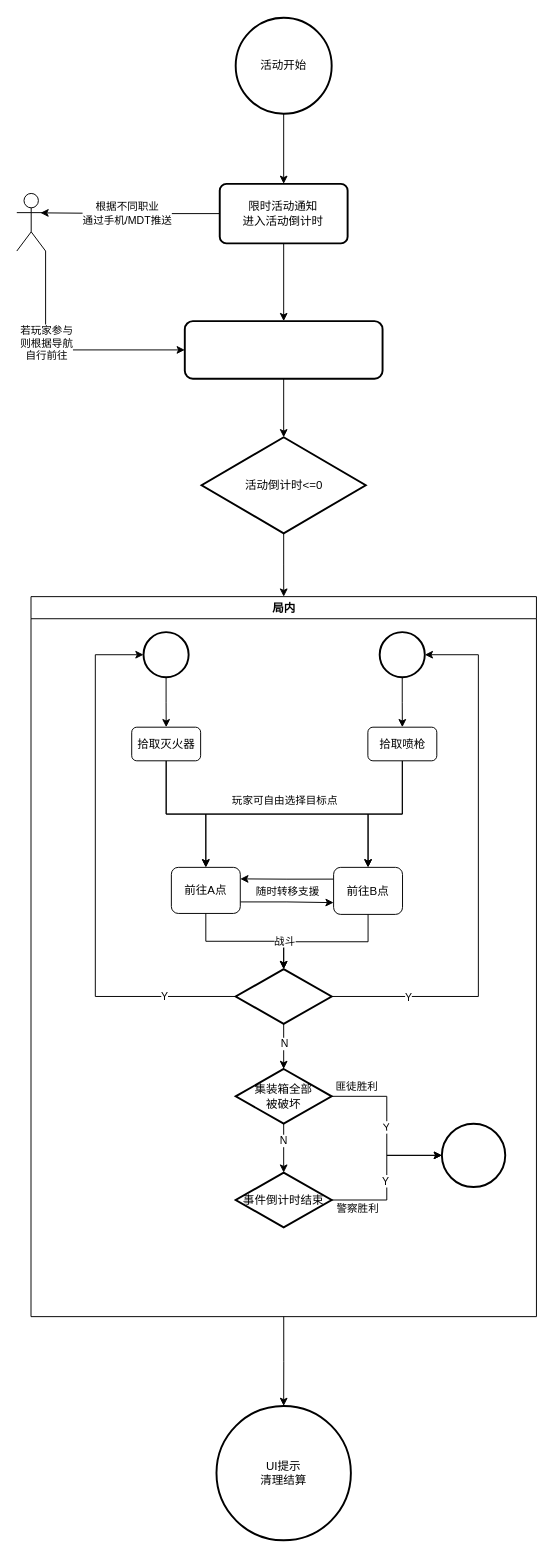
The diagram is 554 pixels wide and 1557 high, and some of its shapes have lost their labels. The shapes that lost their labels are listed below. From the top down, each one's box as (x1, y1, x2, y2) in pixels, then its label:
(16, 192, 46, 251): 玩家
(183, 320, 383, 379): 港口集装箱开始“布场准备”
(142, 631, 189, 678): 警察 出生点
(378, 631, 425, 678): 匪徒 出生点
(234, 968, 332, 1024): 玩家死亡
(440, 1122, 506, 1188): 活动结束
